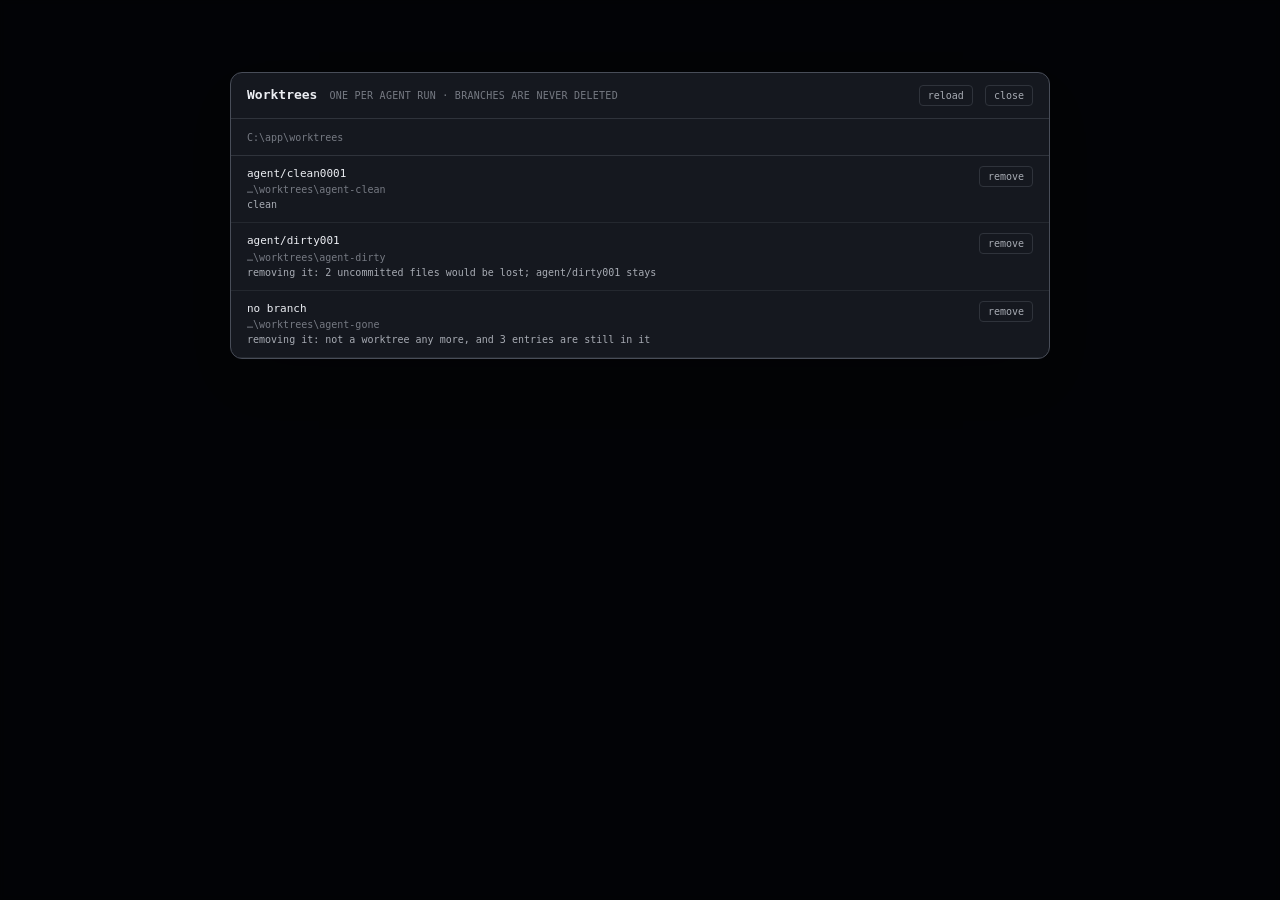
the worktrees panel › re-reads the directory after a removal, so the list is what is there
The image size is (1280, 900).
Expected: the text "agent/clean0001" is shown, left=247, top=166, right=346, bottom=182
Click the button "remove" in the row of "agent/clean0001" at (1006, 176), box left=979, top=166, right=1033, bottom=186
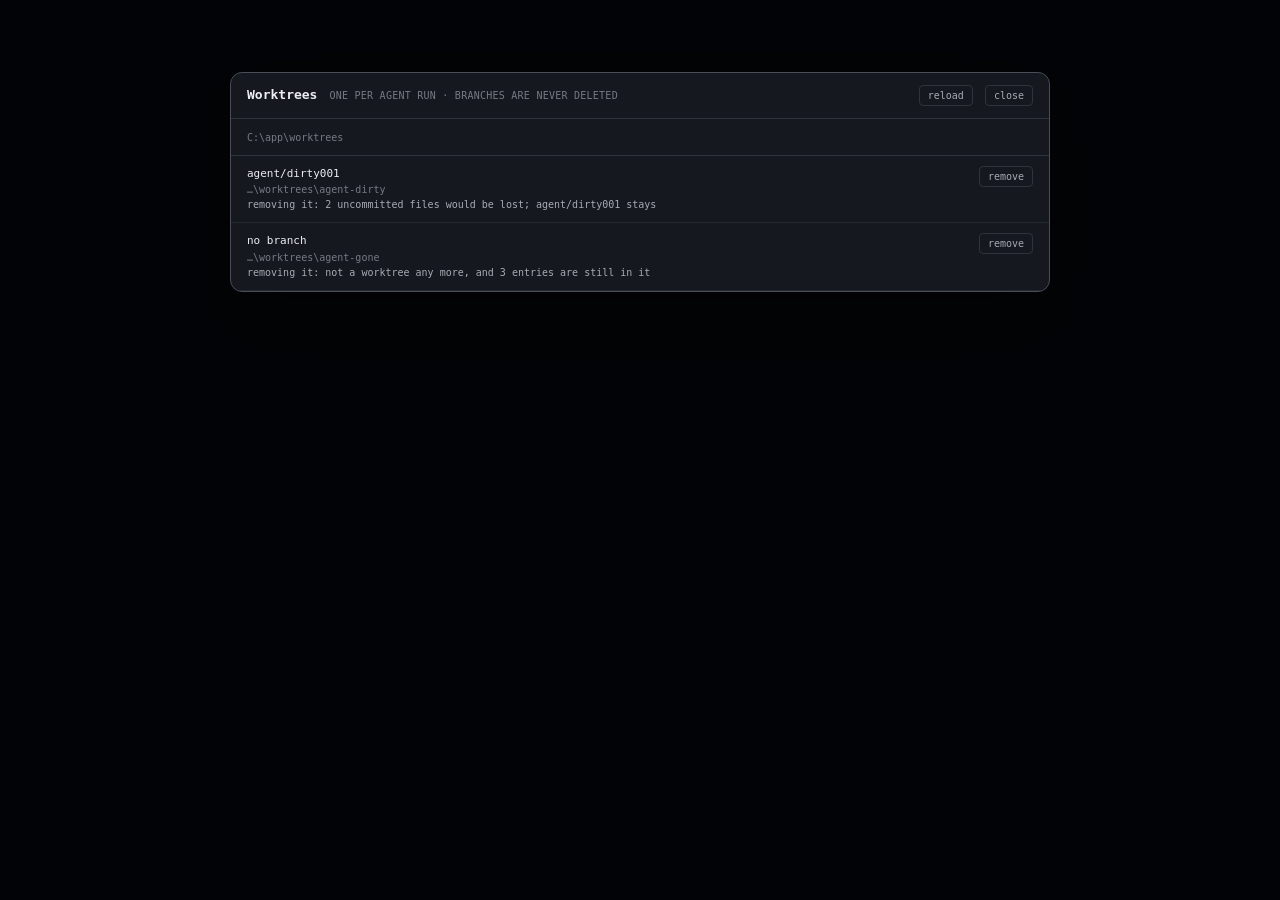
Now the text "agent/clean0001" is gone
